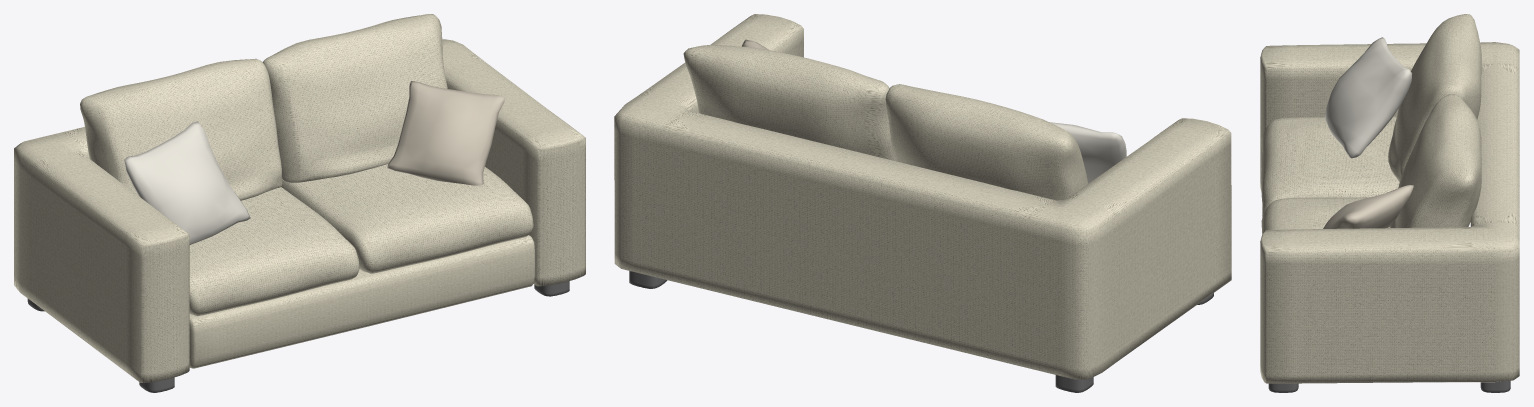
Rendered from sh_scopia_burlap_sofa.glb.
3 views of the same model, side by side, from view 1: azimuth 30°, elevation 25°; view 2: azimuth 150°, elevation 25°; view 3: azimuth 270°, elevation 25° (orthographic). The views are drawn at different scales.
Bounding box in the file's own units: 1.7 × 0.797 × 0.9.
4 materials, 1 textured.
